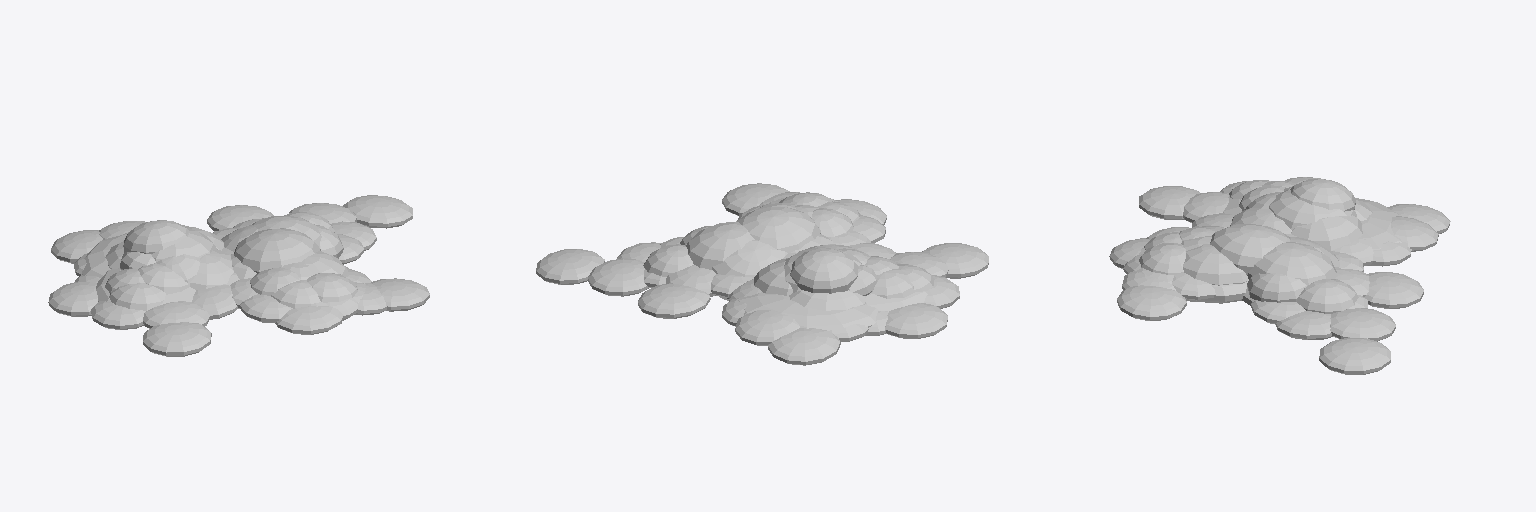
3 renders of one model, left to right at view 1: azimuth 30°, elevation 25°; view 2: azimuth 150°, elevation 25°; view 3: azimuth 270°, elevation 25°, orthographic.
Visible parts, largest first — view 1: group[number redacted], group[number redacted], group[number redacted], group[number redacted], group[number redacted], group[number redacted], group[number redacted], group[number redacted], group[number redacted], group[number redacted], group[number redacted], group[number redacted] (+18 smaller); view 2: group[number redacted], group[number redacted], group[number redacted], group[number redacted], group[number redacted], group[number redacted], group[number redacted], group[number redacted], group[number redacted], group[number redacted], group[number redacted], group[number redacted] (+14 smaller); view 3: group[number redacted], group[number redacted], group[number redacted], group[number redacted], group[number redacted], group[number redacted], group[number redacted], group[number redacted], group[number redacted], group[number redacted], group[number redacted], group[number redacted] (+16 smaller).
Part boxes in pixels (x1,y1,x2,y2): group[number redacted]: (234, 228, 320, 273); group[number redacted]: (143, 322, 211, 356); group[number redacted]: (343, 195, 412, 228); group[number redacted]: (123, 220, 187, 253); group[number redacted]: (275, 306, 343, 334); group[number redacted]: (48, 281, 97, 316); group[number redacted]: (371, 278, 429, 311); group[number redacted]: (143, 301, 209, 328); group[number redacted]: (190, 249, 233, 289); group[number redacted]: (109, 283, 165, 310); group[number redacted]: (91, 301, 145, 329); group[number redacted]: (51, 230, 102, 263); group[number redacted]: (737, 207, 820, 252); group[number redacted]: (738, 292, 878, 330); group[number redacted]: (790, 248, 858, 293); group[number redacted]: (768, 328, 840, 365); group[number redacted]: (686, 221, 754, 269); group[number redacted]: (638, 283, 710, 318); group[number redacted]: (536, 249, 604, 284); group[number redacted]: (588, 258, 649, 296); group[number redacted]: (885, 303, 947, 338); group[number redacted]: (735, 310, 799, 345); group[number redacted]: (712, 240, 787, 300); group[number redacted]: (922, 243, 988, 278); group[number redacted]: (1248, 242, 1337, 285); group[number redacted]: (1210, 224, 1289, 275); group[number redacted]: (1319, 337, 1390, 374); group[number redacted]: (1117, 285, 1186, 320); group[number redacted]: (1183, 244, 1248, 285); group[number redacted]: (1330, 308, 1395, 341); group[number redacted]: (1365, 272, 1423, 308); group[number redacted]: (1291, 215, 1362, 250); group[number redacted]: (1296, 279, 1358, 313); group[number redacted]: (1290, 179, 1355, 211); group[number redacted]: (1269, 190, 1356, 229); group[number redacted]: (1139, 186, 1199, 219).
Size of the model in its own units: 1.06 by 0.1887 by 0.8249.